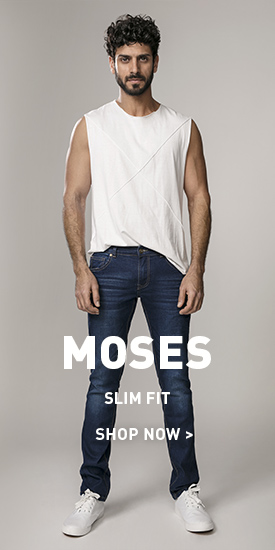jeans: (66, 240, 207, 493)
